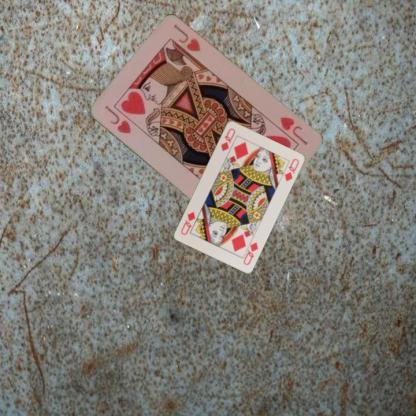Jh: (276, 114, 310, 147), (102, 102, 132, 136)
Qd: (240, 235, 260, 266), (218, 125, 236, 152)
